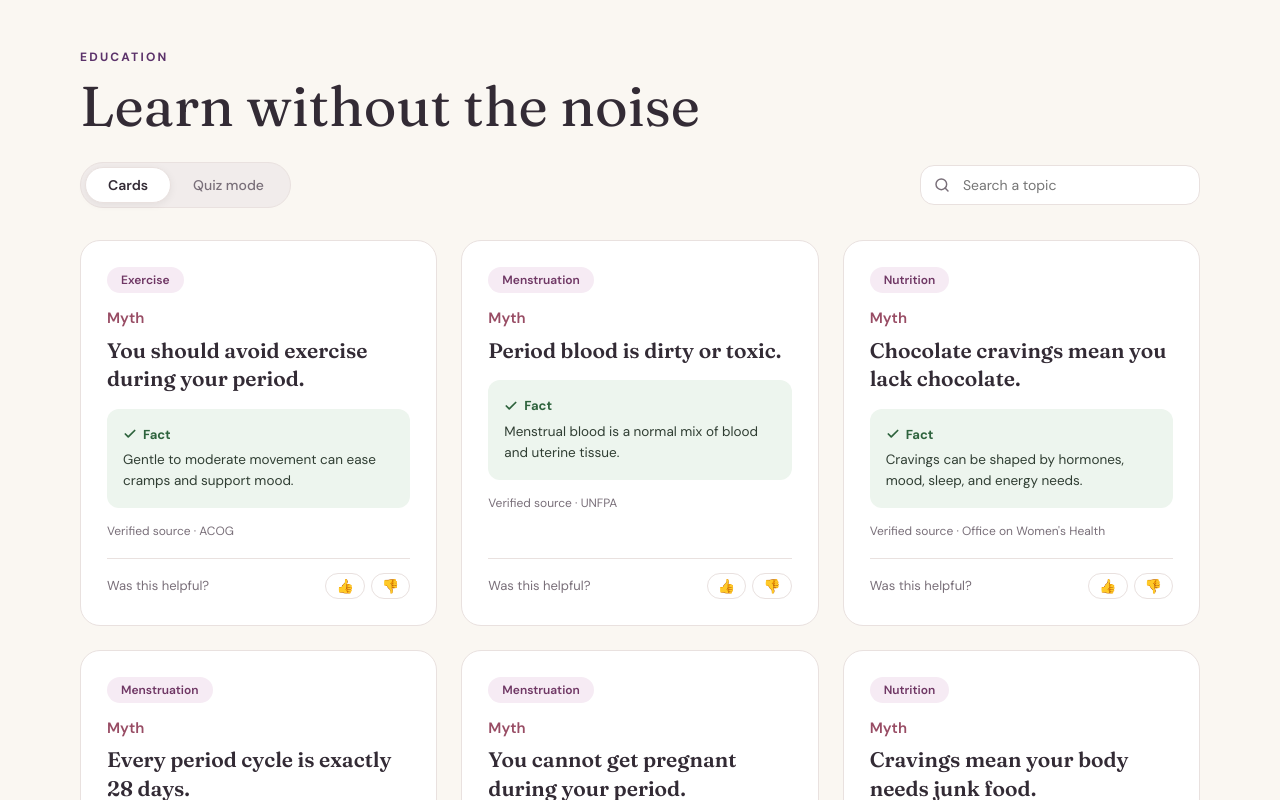
Test: Education feature › filters myths based on search input
The image size is (1280, 800).
In the field with placeholder "Search a topic": (1060, 185) [920, 165, 1200, 205], type "Chocolate"
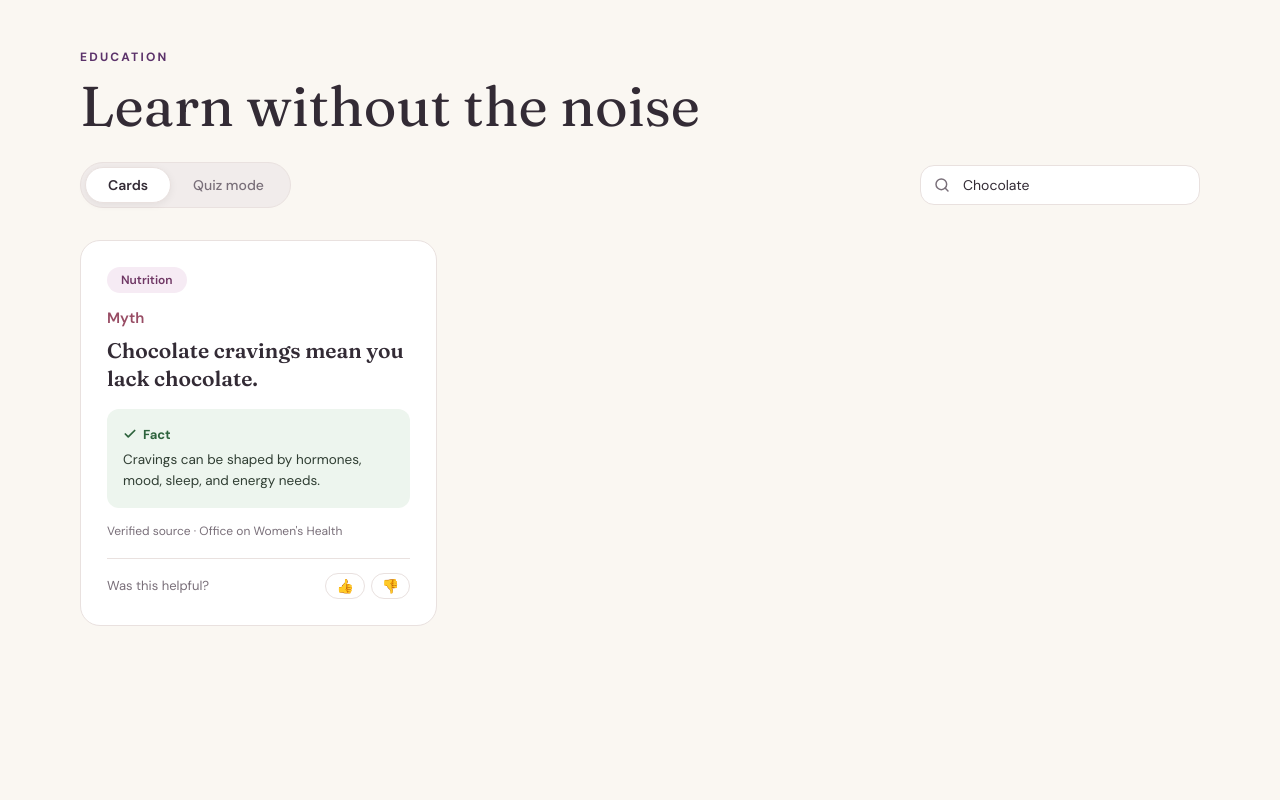
Expected: the heading "Chocolate cravings mean you lack chocolate." is shown, [107, 336, 410, 393]
Expected: the heading "You should avoid exercise during your period." is gone
